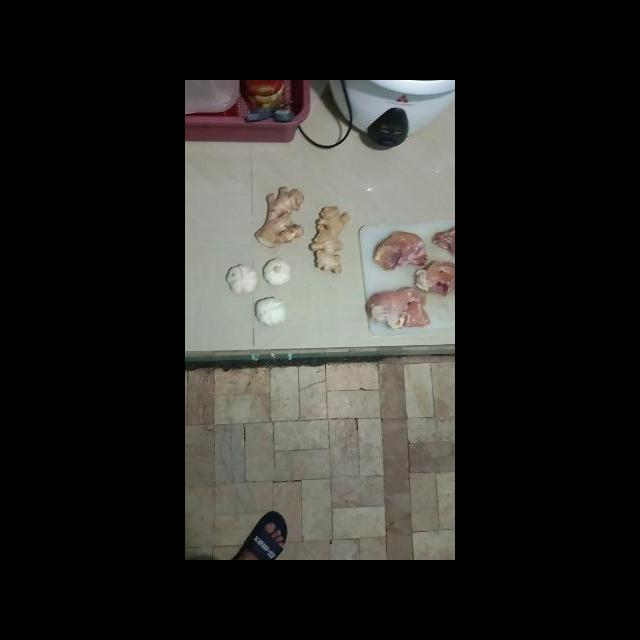garlic: (252, 293, 289, 330), (225, 262, 259, 298), (261, 255, 293, 287)
ginger: (254, 186, 305, 250), (309, 206, 350, 277), (364, 286, 431, 329), (371, 231, 427, 272), (408, 259, 455, 295)
